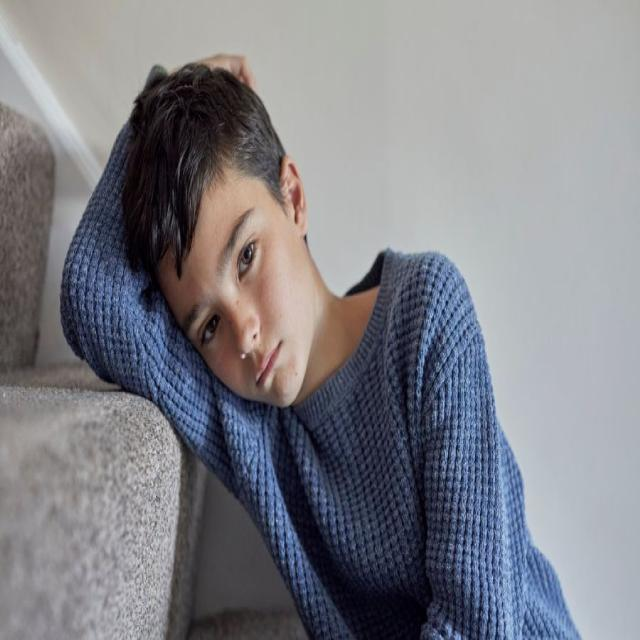child: (63, 50, 582, 640)
